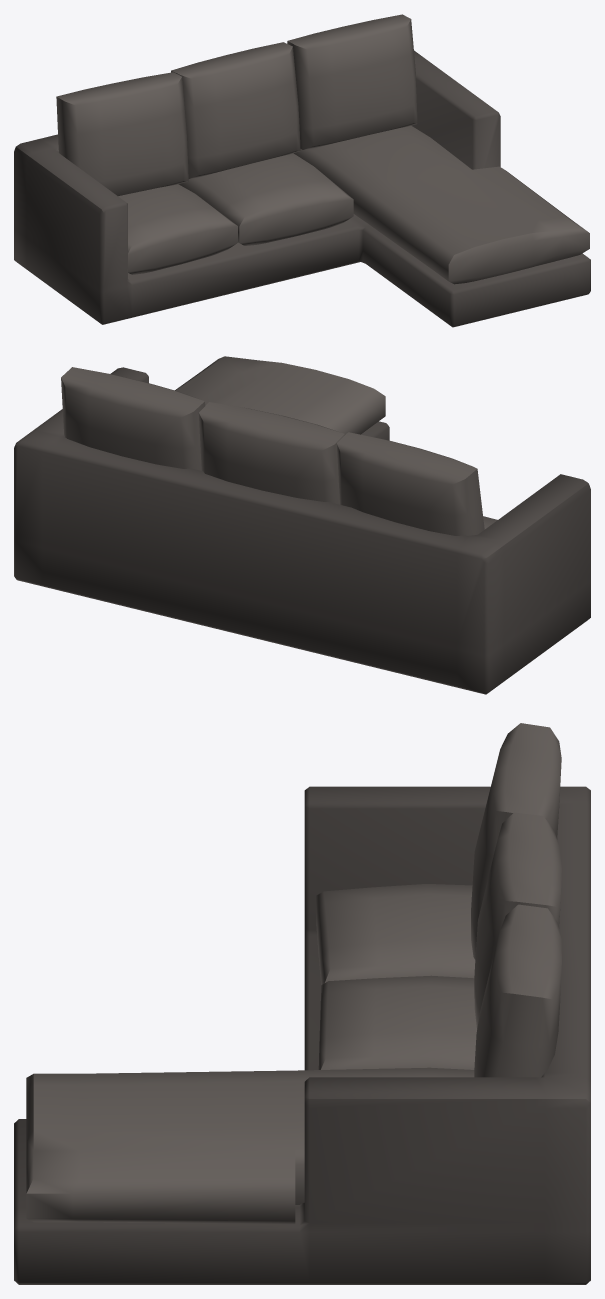
File: Couch_L.glb
The picture shows the model from 3 angles, top to bottom: view 1: azimuth 30°, elevation 25°; view 2: azimuth 150°, elevation 25°; view 3: azimuth 270°, elevation 25°; orthographic projection. The views are drawn at different scales.
Visible parts, largest first — view 1: Couch_L; view 2: Couch_L; view 3: Couch_L.
Boxes of the visible parts, x1,y1,x2,y2 form: Couch_L: (14,14,590,327); Couch_L: (14,356,590,694); Couch_L: (14,723,590,1284).
Bounding box in the file's own units: 2.75 × 1.11 × 2.12.
Materials: 2 (2 with a texture image).
